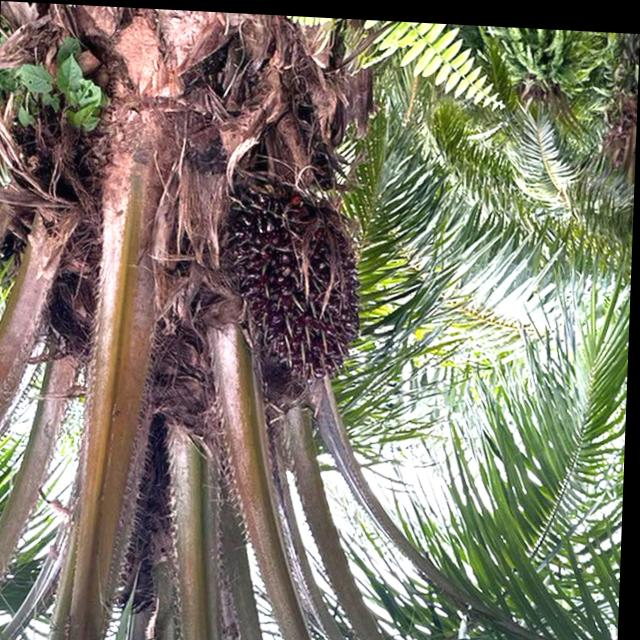ripe: (224, 185, 377, 386)
